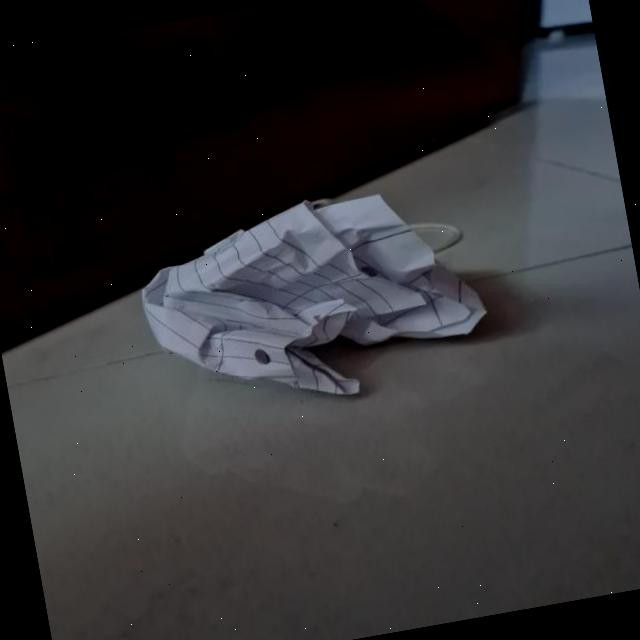trash: (124, 170, 497, 429)
